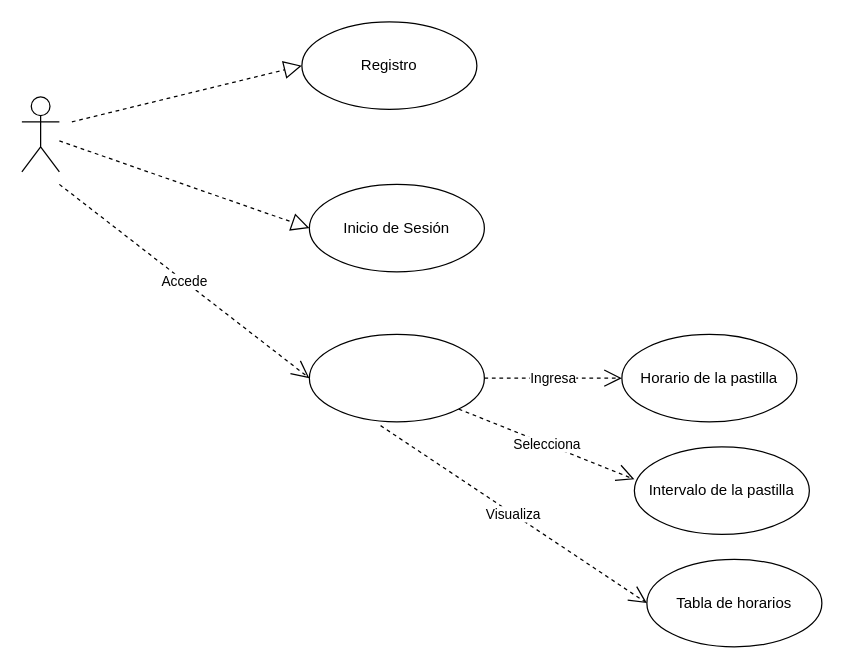
This 844x669 diagram has some shape labels left out. The shapes that lost their labels are listed below. From the top down, each one's centre as x and y in pixels, then its label:
At point (40, 134): "Actor".
At point (396, 377): "Dashboard".
